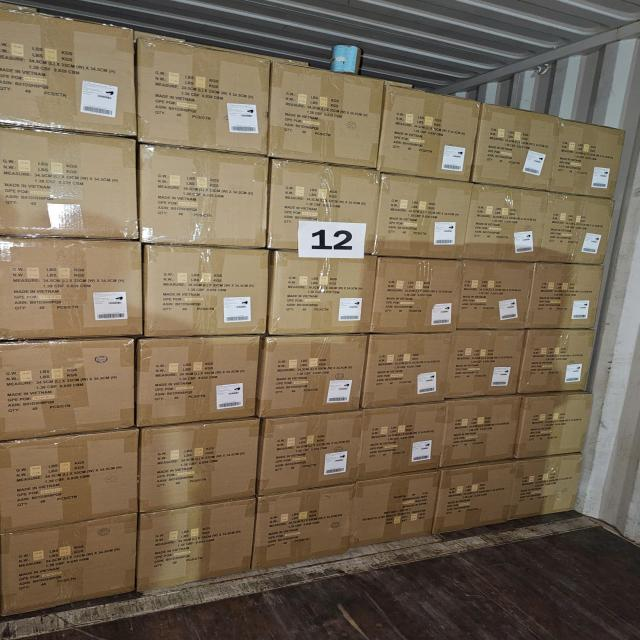Carton: (0, 0, 135, 133), (0, 121, 138, 235), (135, 40, 266, 156), (0, 234, 141, 339), (0, 428, 138, 525), (0, 341, 134, 439), (137, 143, 266, 243), (0, 519, 133, 613), (140, 244, 266, 338), (272, 60, 384, 165), (267, 160, 379, 258), (135, 338, 256, 428), (137, 421, 255, 507), (135, 504, 253, 589), (381, 84, 476, 184), (267, 254, 374, 336), (259, 333, 365, 414), (254, 491, 356, 571), (261, 412, 363, 490), (377, 174, 469, 259), (474, 101, 555, 190), (375, 259, 464, 336), (350, 471, 439, 545), (365, 331, 453, 405), (468, 183, 543, 263), (360, 404, 442, 474), (442, 397, 519, 467), (438, 463, 516, 531), (556, 120, 621, 198), (461, 258, 532, 329), (542, 193, 612, 265), (520, 328, 596, 393), (454, 330, 526, 398), (532, 262, 605, 328), (518, 393, 592, 458), (515, 458, 584, 520)
